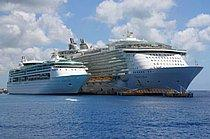Ship: (53, 33, 208, 99), (7, 49, 95, 98)
